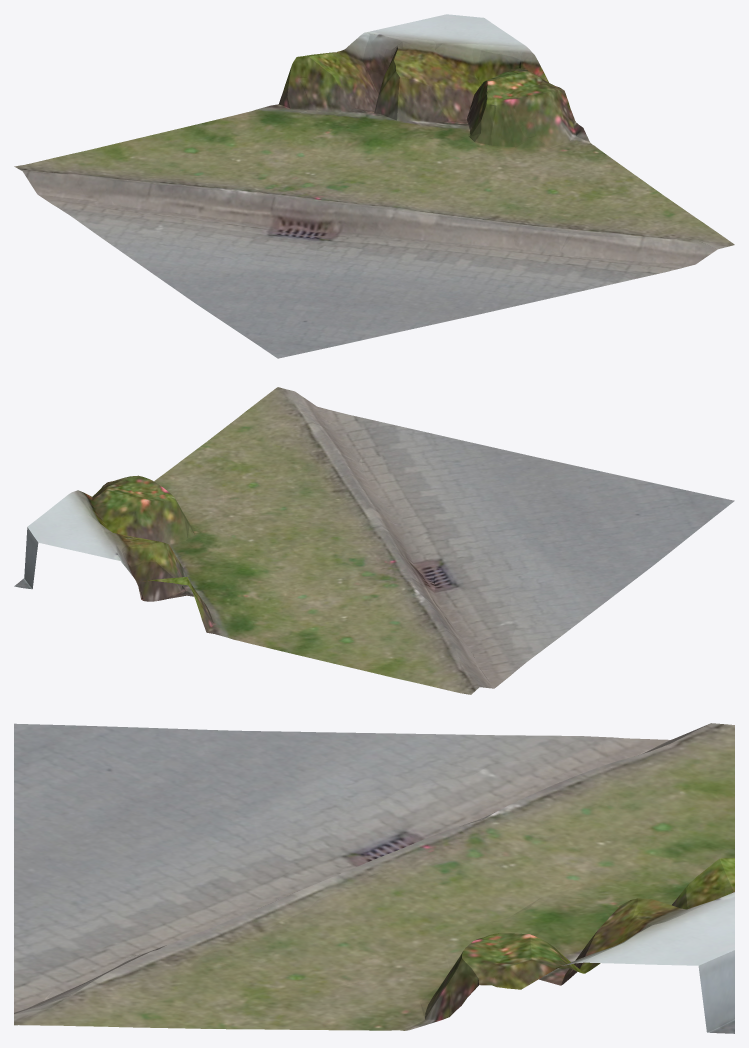
3 renders of one model, top to bottom at view 1: azimuth 30°, elevation 25°; view 2: azimuth 150°, elevation 25°; view 3: azimuth 270°, elevation 25°, orthographic. The views are drawn at different scales.
Bounding box in the file's own units: 4.18 × 0.5759 × 4.18.
3 materials, 3 textured.
